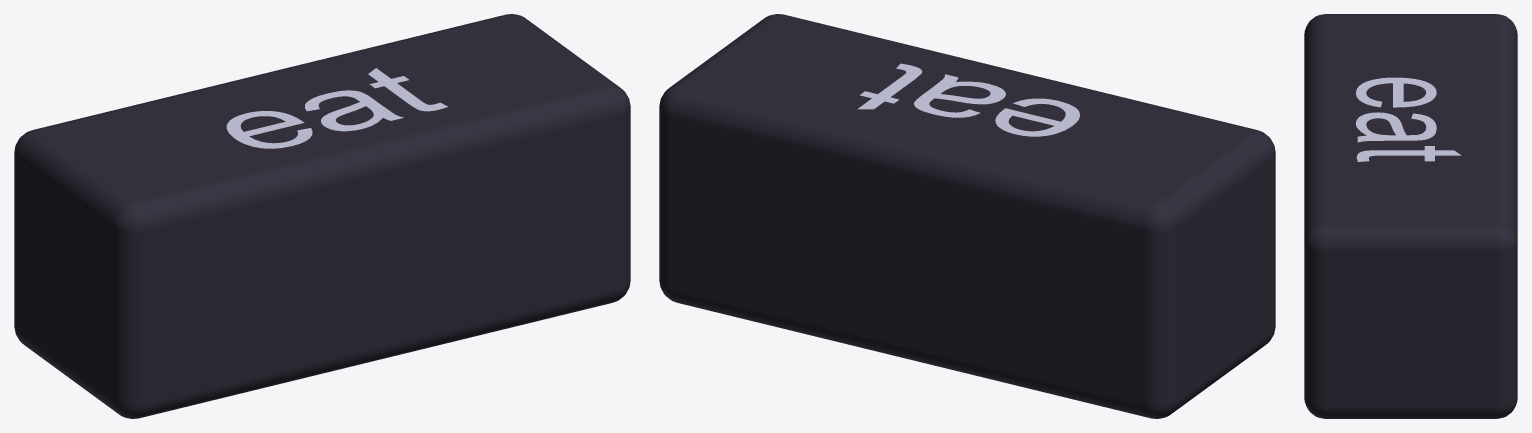
Rendered from eat.glb.
3 views of the same model, side by side, from view 1: azimuth 30°, elevation 25°; view 2: azimuth 150°, elevation 25°; view 3: azimuth 270°, elevation 25° (orthographic). The views are drawn at different scales.
Visible parts, largest first — view 1: Cut, Extrude; view 2: Cut, Extrude; view 3: Cut, Extrude.
Boxes of the visible parts, <box> form: Cut: <box>14,14,630,418</box>; Extrude: <box>226,68,448,148</box>; Cut: <box>659,14,1275,418</box>; Extrude: <box>857,63,1080,136</box>; Cut: <box>1304,14,1517,418</box>; Extrude: <box>1355,77,1461,161</box>.
Size of the model in its own units: 5 by 2 by 2.
